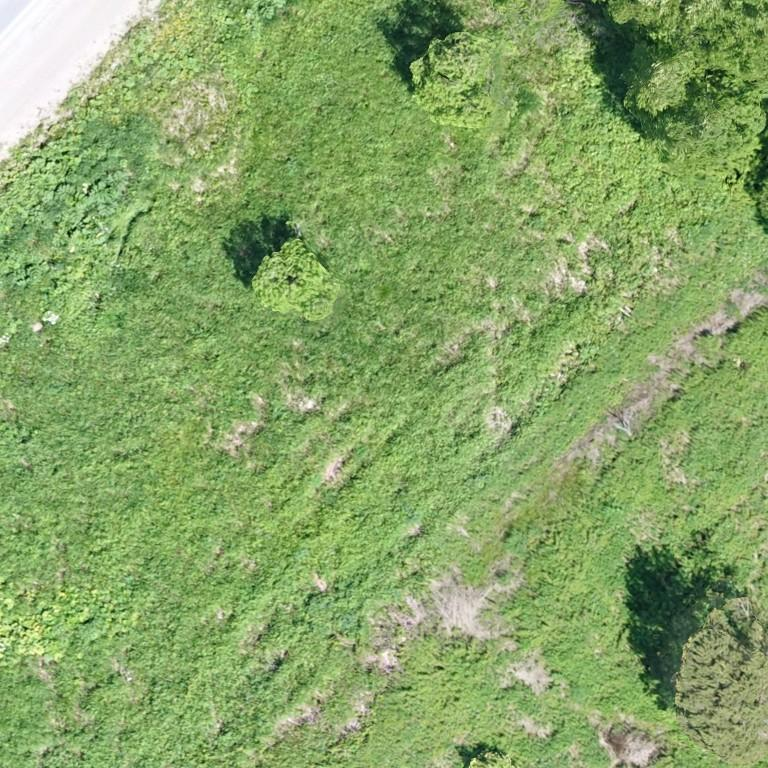hogweed: (0, 139, 129, 265), (14, 256, 45, 285)
